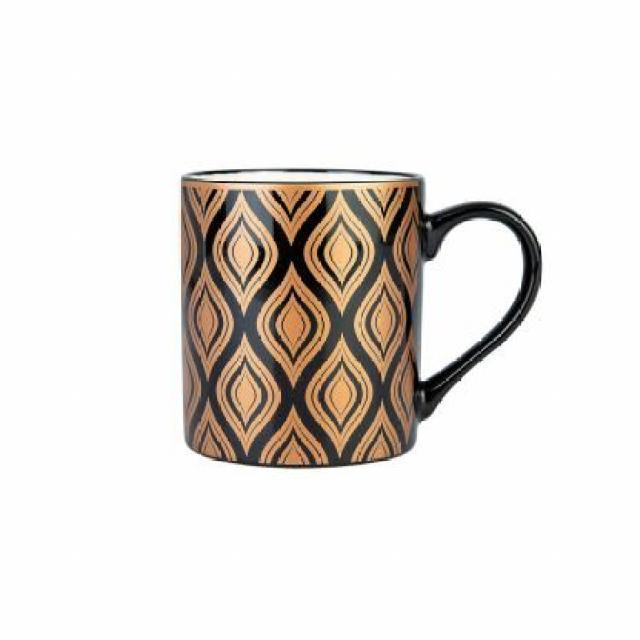taza: (179, 168, 544, 470)
